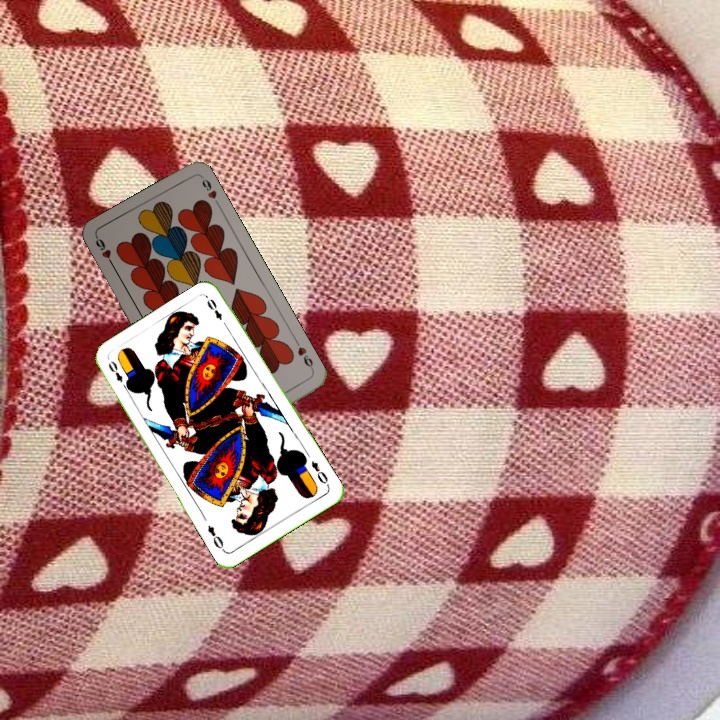EO: (104, 357, 131, 393), (307, 456, 330, 486)
H9: (91, 233, 117, 270), (291, 336, 316, 374)
